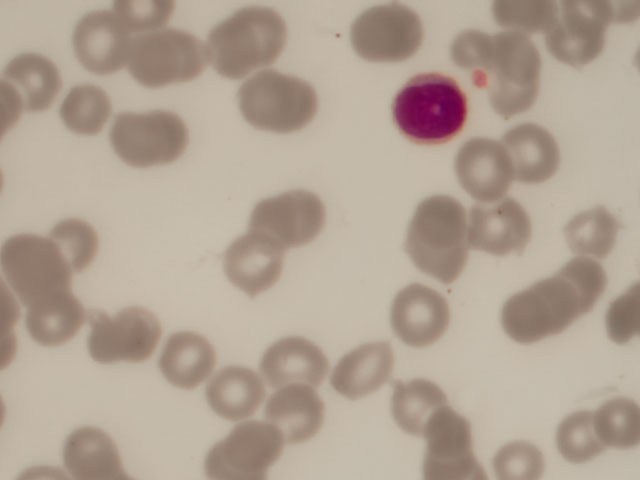RBC: (62, 12, 123, 71), (58, 81, 119, 140), (112, 112, 173, 171), (235, 71, 296, 130), (205, 19, 266, 78), (229, 4, 290, 63), (155, 28, 216, 87), (119, 25, 180, 84), (361, 6, 422, 65), (455, 19, 516, 78), (491, 56, 552, 115), (506, 123, 567, 182), (455, 138, 516, 197), (474, 191, 535, 250), (420, 190, 481, 249), (267, 187, 328, 246), (222, 230, 283, 289), (55, 211, 116, 270), (7, 238, 68, 297), (21, 286, 82, 345), (89, 314, 150, 373), (148, 333, 209, 392), (202, 359, 263, 418), (259, 338, 320, 397), (265, 378, 326, 437), (208, 421, 269, 480), (322, 334, 383, 393), (401, 277, 462, 336), (381, 367, 442, 426), (409, 404, 470, 463), (494, 421, 555, 480), (559, 410, 620, 469), (579, 385, 640, 444), (499, 291, 560, 350), (536, 268, 597, 327), (551, 251, 612, 310), (563, 194, 624, 253), (545, 7, 606, 66), (1, 55, 61, 114)
WBC: (390, 74, 468, 144)
